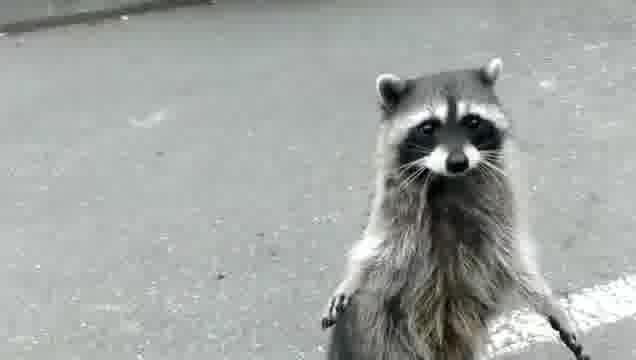raccoon: (323, 57, 596, 360)
